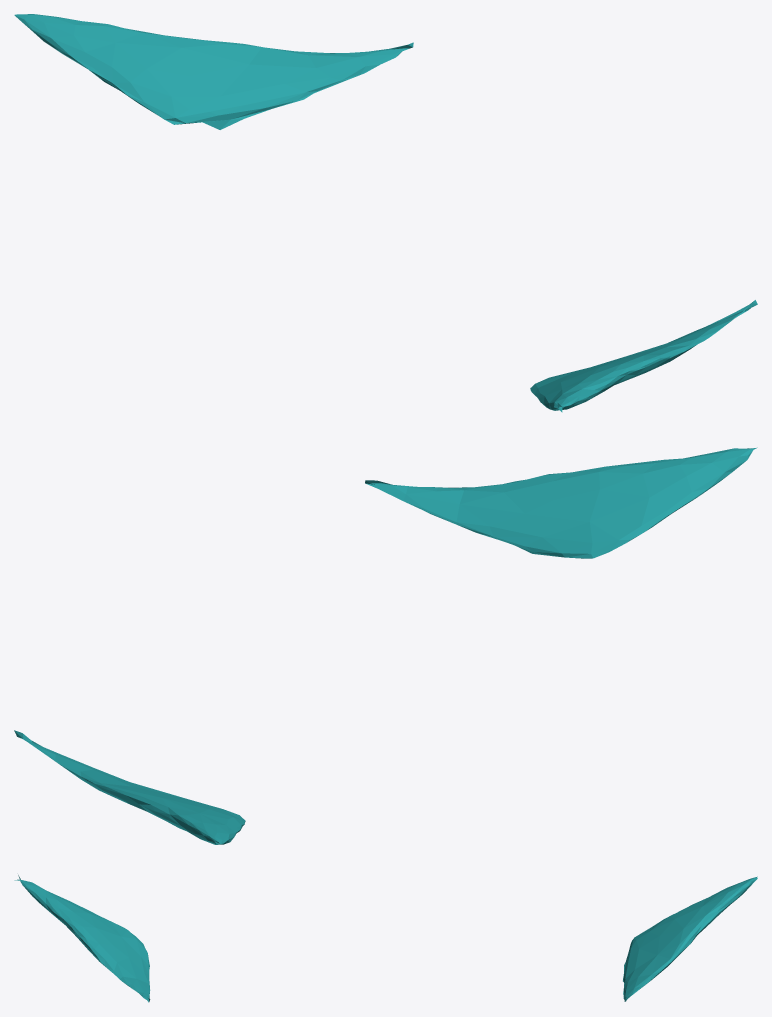
The picture shows the model from 3 angles, top to bottom: view 1: azimuth 30°, elevation 25°; view 2: azimuth 150°, elevation 25°; view 3: azimuth 270°, elevation 25°; orthographic projection. The views are drawn at different scales.
Parts seen in each view (by area): view 1: 501.obj; view 2: 501.obj; view 3: 501.obj.
Boxes of the visible parts, bbox=[...] form: 501.obj: bbox=[14, 14, 757, 412]; 501.obj: bbox=[14, 447, 757, 844]; 501.obj: bbox=[14, 875, 757, 1002].
Size of the model in its own units: 1438 by 354 by 4458.
